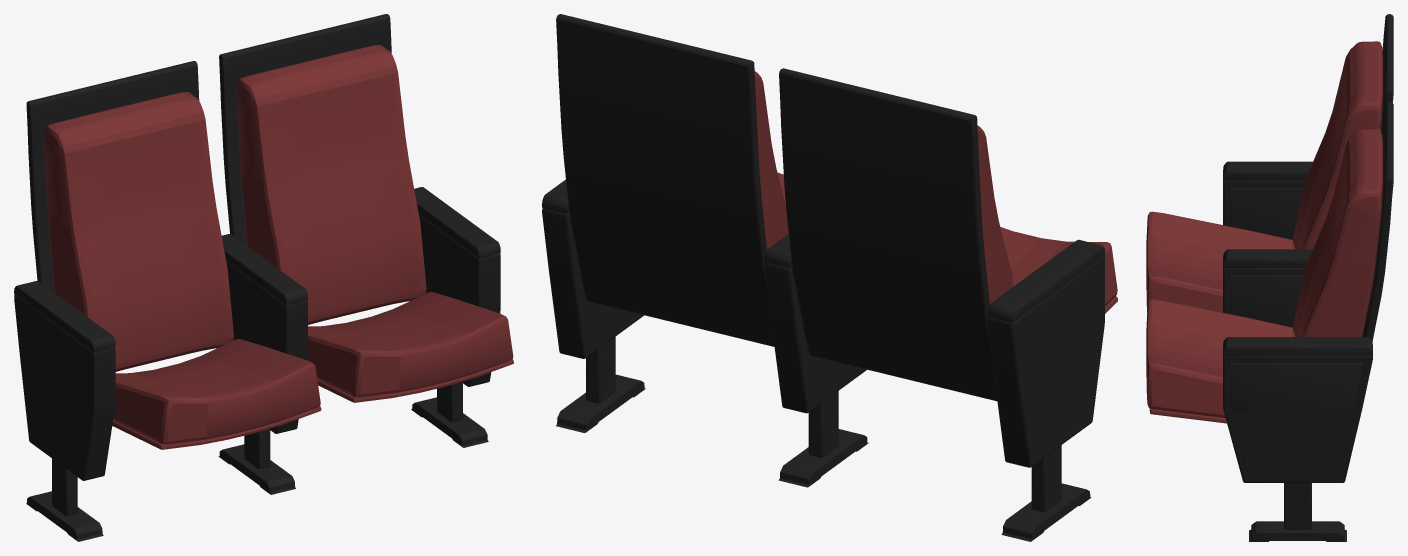
3 views of the same model, side by side, from view 1: azimuth 30°, elevation 25°; view 2: azimuth 150°, elevation 25°; view 3: azimuth 270°, elevation 25° (orthographic). The views are drawn at different scales.
Visible parts, largest first — view 1: 靠背_2_43, 靠背_2_44, 垫_4_44, 垫_4_43, 侧框_2_49, 靠背_木头_2_44, 靠背_木头_2_43, 侧框_2_51, 侧框_2_50, 木头扶手_2_49, 木头扶手_2_51, 木头扶手_2_50 (+8 smaller); view 2: 靠背_木头_2_43, 靠背_木头_2_44, 侧框_2_49, 侧框_2_51, 侧框_2_50, 木头扶手_2_49, 靠背_2_43, 靠背_2_44, 垫_4_44, 铁脚底_2_50, 铁脚底_2_51, 铁脚底_2_49 (+3 smaller); view 3: 侧中_2_51, 靠背_2_44, 垫_4_43, 垫_4_44, 靠背_2_43, 侧框_2_51, 侧中_2_50, 侧中_2_49, 木头扶手_2_51, 靠背_木头_2_44, 铁脚底_2_51, 木头扶手_2_49 (+6 smaller).
Boxes of the visible parts, x1=… form: 靠背_2_43: x1=44, y1=91, x2=233, y2=371; 靠背_2_44: x1=237, y1=44, x2=426, y2=324; 垫_4_44: x1=113, y1=339, x2=320, y2=444; 垫_4_43: x1=307, y1=292, x2=513, y2=397; 侧框_2_49: x1=14, y1=294, x2=115, y2=480; 靠背_木头_2_44: x1=219, y1=14, x2=391, y2=245; 靠背_木头_2_43: x1=26, y1=61, x2=199, y2=292; 侧框_2_51: x1=409, y1=215, x2=500, y2=386; 侧框_2_50: x1=226, y1=262, x2=307, y2=433; 木头扶手_2_49: x1=14, y1=281, x2=115, y2=352; 木头扶手_2_51: x1=414, y1=187, x2=500, y2=258; 木头扶手_2_50: x1=221, y1=234, x2=308, y2=305; 靠背_木头_2_43: x1=779, y1=68, x2=997, y2=401; 靠背_木头_2_44: x1=556, y1=14, x2=774, y2=346; 侧框_2_49: x1=987, y1=256, x2=1104, y2=467; 侧框_2_51: x1=542, y1=208, x2=643, y2=358; 侧框_2_50: x1=765, y1=262, x2=866, y2=413; 木头扶手_2_49: x1=987, y1=239, x2=1105, y2=322; 靠背_2_43: x1=977, y1=126, x2=1013, y2=303; 靠背_2_44: x1=754, y1=71, x2=788, y2=249; 垫_4_44: x1=1000, y1=227, x2=1117, y2=306; 铁脚底_2_50: x1=778, y1=429, x2=868, y2=487; 铁脚底_2_51: x1=556, y1=374, x2=645, y2=432; 铁脚底_2_49: x1=1001, y1=483, x2=1091, y2=541; 侧中_2_51: x1=1230, y1=363, x2=1363, y2=476; 靠背_2_44: x1=1293, y1=129, x2=1382, y2=336; 垫_4_43: x1=1146, y1=299, x2=1294, y2=417; 垫_4_44: x1=1146, y1=211, x2=1294, y2=312; 靠背_2_43: x1=1293, y1=41, x2=1382, y2=249; 侧框_2_51: x1=1223, y1=354, x2=1372, y2=482; 侧中_2_50: x1=1230, y1=275, x2=1303, y2=327; 侧中_2_49: x1=1230, y1=188, x2=1303, y2=239; 木头扶手_2_51: x1=1223, y1=337, x2=1372, y2=355; 靠背_木头_2_44: x1=1362, y1=101, x2=1393, y2=341; 铁脚底_2_51: x1=1249, y1=521, x2=1346, y2=541; 木头扶手_2_49: x1=1223, y1=161, x2=1312, y2=180.
Size of the model in its own units: 94.09 by 82.9 by 52.66.
